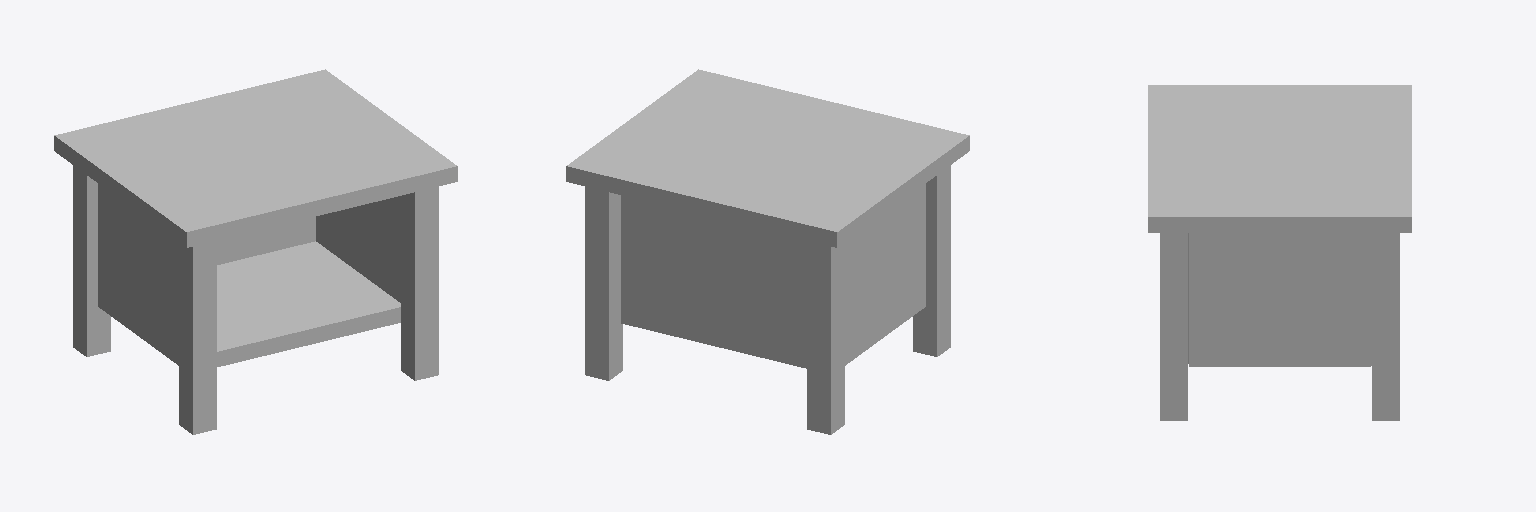
The model's file is Buro_base.obj.
The picture shows the model from 3 angles: view 1: azimuth 30°, elevation 25°; view 2: azimuth 150°, elevation 25°; view 3: azimuth 270°, elevation 25°; orthographic projection.
Visible parts, largest first — view 1: Buro_base; view 2: Buro_base; view 3: Buro_base.
Boxes of the visible parts, x1=… form: Buro_base: x1=54, y1=69, x2=457, y2=434; Buro_base: x1=566, y1=69, x2=969, y2=434; Buro_base: x1=1148, y1=85, x2=1411, y2=420.
Size of the model in its own units: 1.24 by 0.9202 by 1.05.